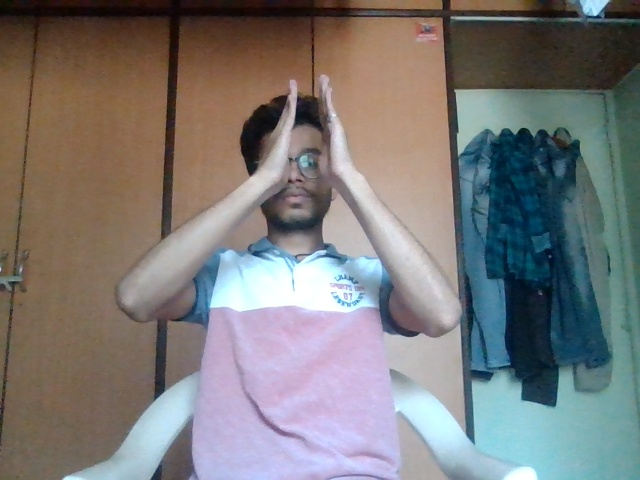morning: (257, 69, 357, 202)
